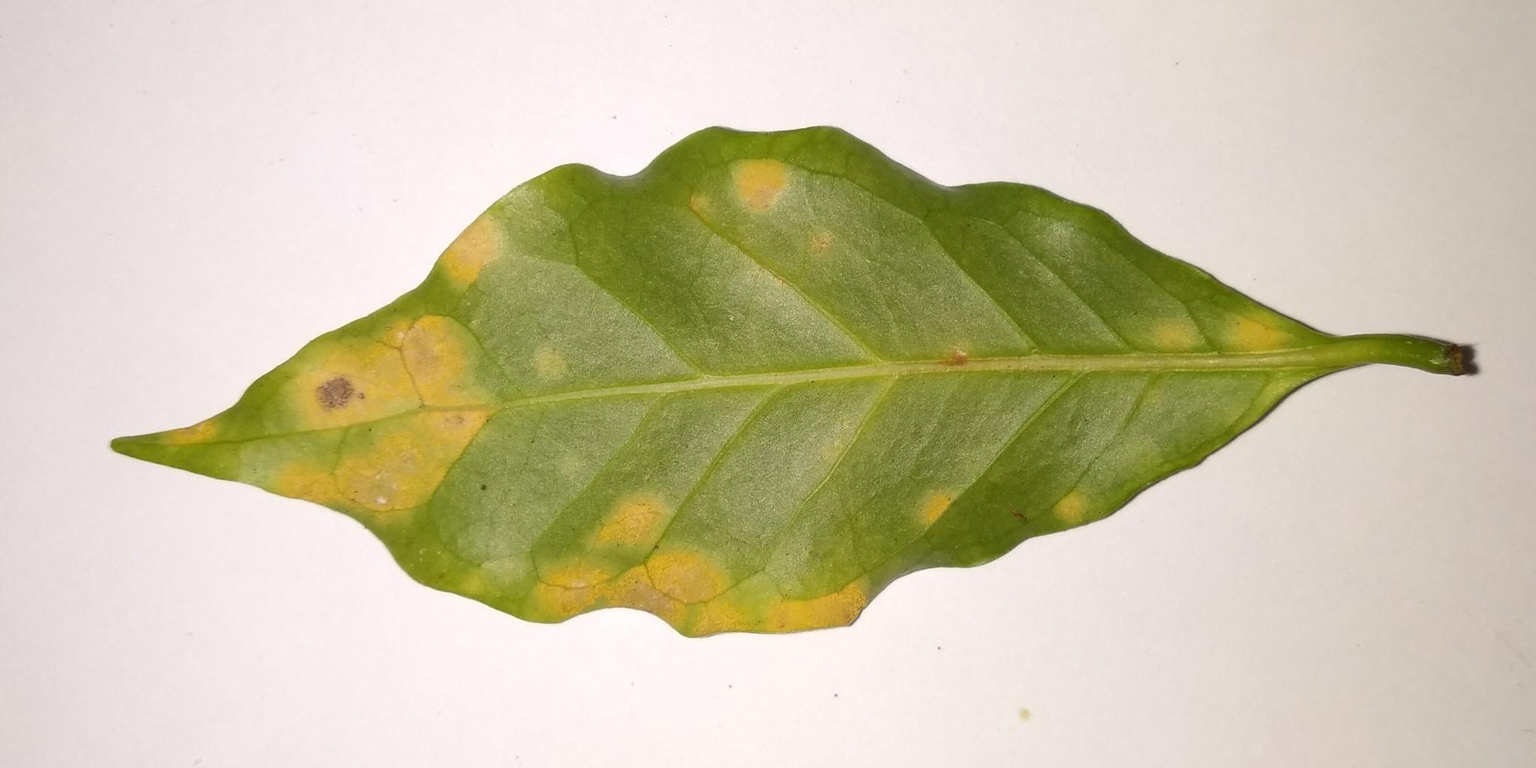Rust: (521, 480, 876, 639), (278, 310, 500, 521)
